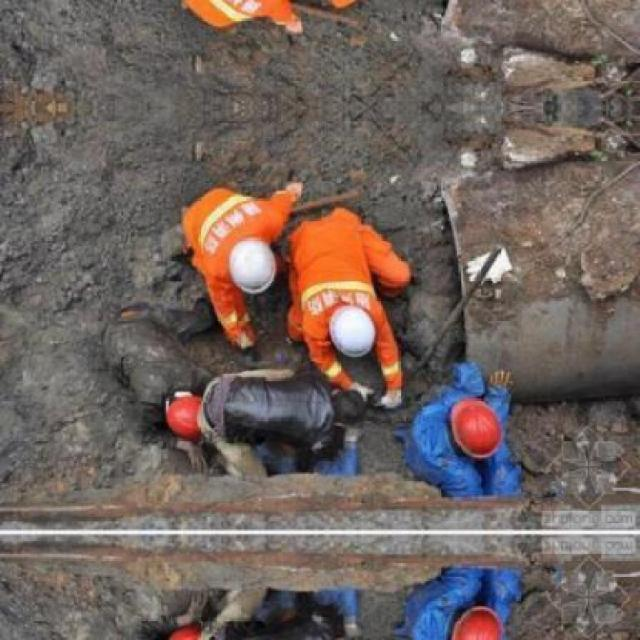hat: (442, 389, 506, 466), (220, 223, 280, 300), (324, 297, 378, 363), (163, 385, 211, 443)
